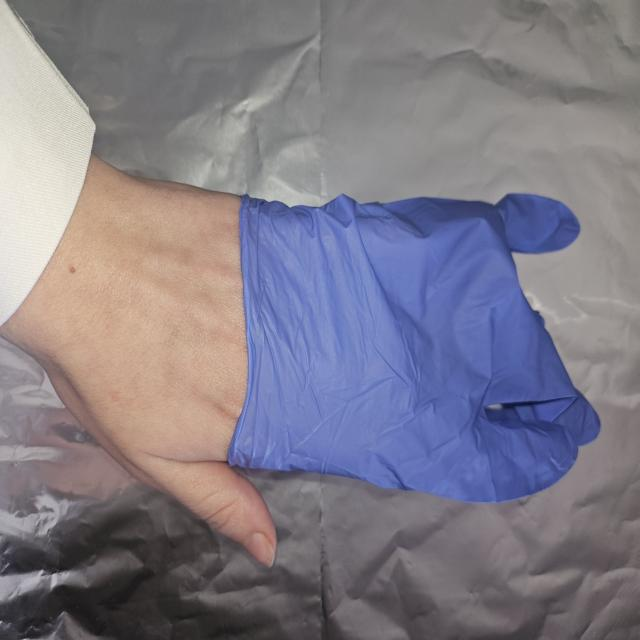glove_partial: (72, 148, 602, 569)
